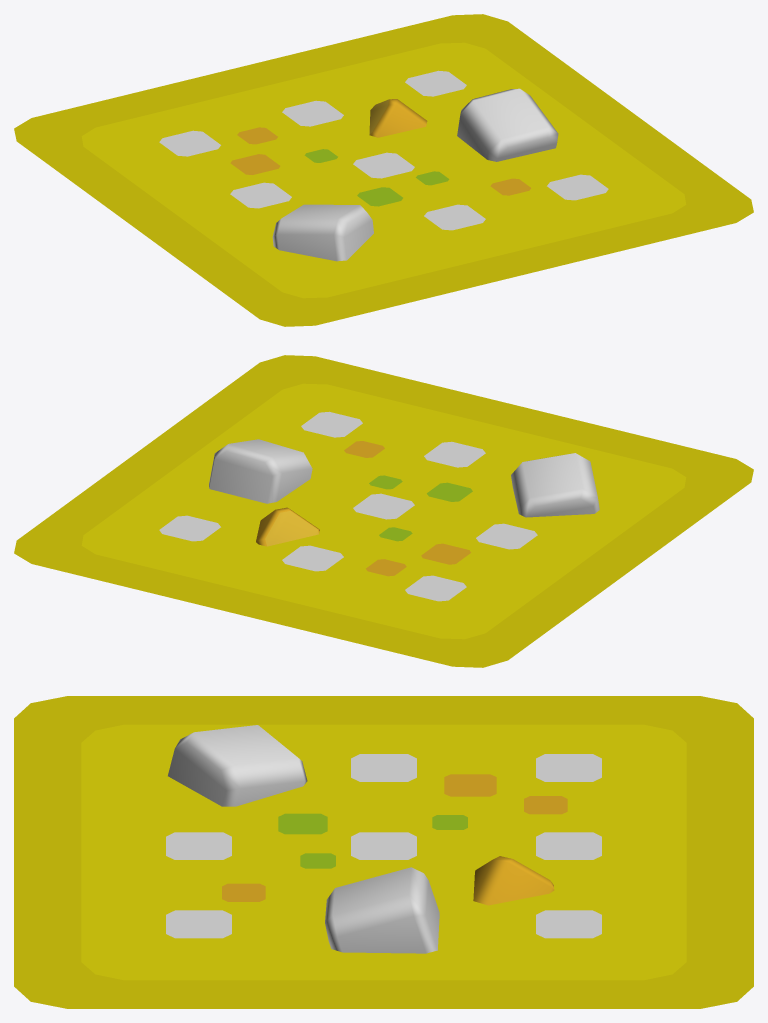
File: BC_cookrecipe_15.fbx
3 renders of one model, top to bottom at view 1: azimuth 30°, elevation 25°; view 2: azimuth 150°, elevation 25°; view 3: azimuth 270°, elevation 25°, orthographic. The views are drawn at different scales.
Visible parts, largest first — view 1: base, cube1, cube2, main, cube3, boko24, boko29, boko23, boko25, boko28, boko22, boko8; view 2: base, cube1, cube2, main, cube3, boko28, boko8, boko25, boko29, boko22, boko24, boko23; view 3: base, cube1, cube2, main, cube3, boko28, boko29, boko24, boko25, boko8, boko22, boko23.
Part boxes in pixels (x1,y1,x2,y2): base: (14, 14, 753, 326); cube1: (457, 88, 558, 161); cube2: (272, 204, 373, 261); main: (230, 127, 530, 206); cube3: (369, 99, 427, 137); boko24: (159, 130, 220, 156); boko29: (405, 70, 466, 96); boko23: (282, 100, 343, 126); boko25: (230, 182, 291, 208); boko28: (547, 174, 608, 200); boko22: (353, 152, 414, 178); boko8: (424, 204, 485, 230); base: (14, 355, 753, 667); cube1: (209, 439, 312, 503); cube2: (511, 453, 599, 517); main: (344, 441, 472, 576); cube3: (256, 507, 319, 546); boko28: (301, 411, 362, 437); boko8: (424, 441, 485, 467); boko25: (476, 523, 537, 549); boko29: (159, 515, 220, 541); boko22: (353, 493, 414, 519); boko24: (405, 575, 466, 601); boko23: (282, 545, 343, 571); base: (14, 696, 753, 1008); cube1: (325, 867, 439, 953); cube2: (168, 725, 307, 806); main: (222, 774, 567, 901); cube3: (473, 856, 554, 905); boko28: (166, 910, 231, 938); boko29: (536, 910, 601, 938); boko24: (536, 754, 601, 781); boko25: (351, 754, 416, 781); boko8: (166, 832, 231, 859); boko22: (351, 832, 416, 859); boko23: (536, 832, 601, 859).
Bounding box in the file's own units: 3.5 × 0.6323 × 3.5.
